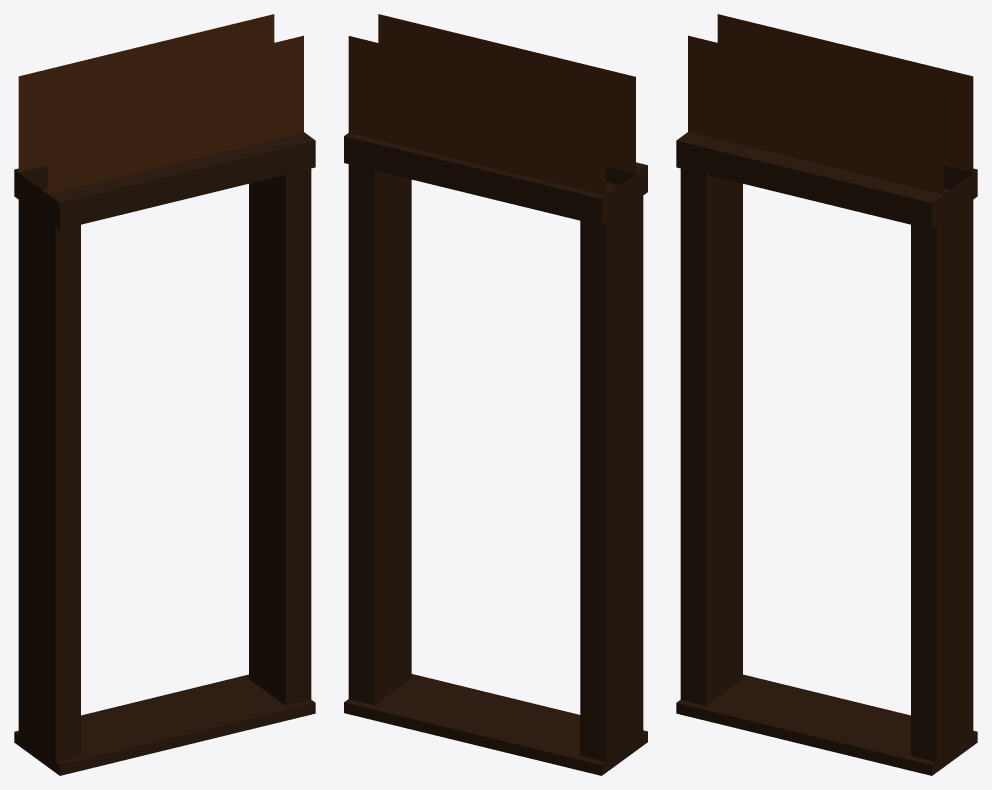
Rendered from HouseDoor.obj.
The picture shows the model from 3 angles, left to right: view 1: azimuth 30°, elevation 25°; view 2: azimuth 150°, elevation 25°; view 3: azimuth 330°, elevation 25°; orthographic projection.
Parts seen in each view (by area): view 1: Untitled_ID2; view 2: Untitled_ID2; view 3: Untitled_ID2.
Boxes of the visible parts, box(x1,y1,x2,y2) form: Untitled_ID2: box(14, 14, 315, 775); Untitled_ID2: box(344, 14, 647, 775); Untitled_ID2: box(676, 14, 977, 775).
Bounding box in the file's own units: 2.54 × 6.35 × 0.7874.
